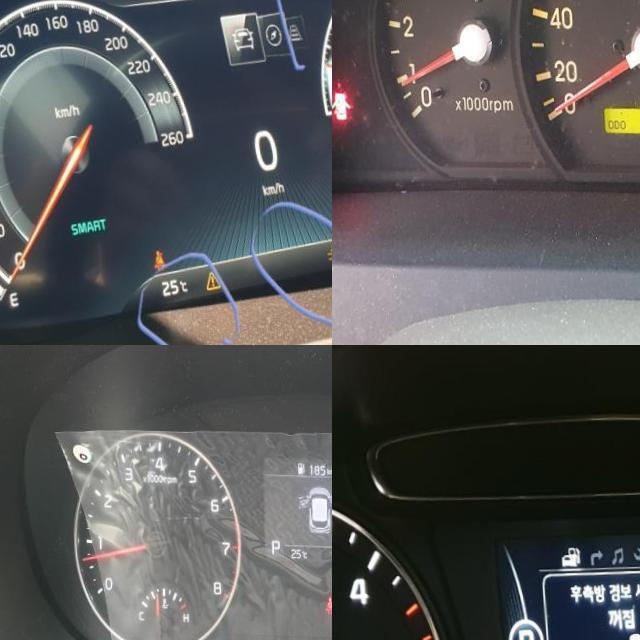Central Warning lamp: (201, 268, 218, 289)
Doors: (332, 91, 348, 119)
